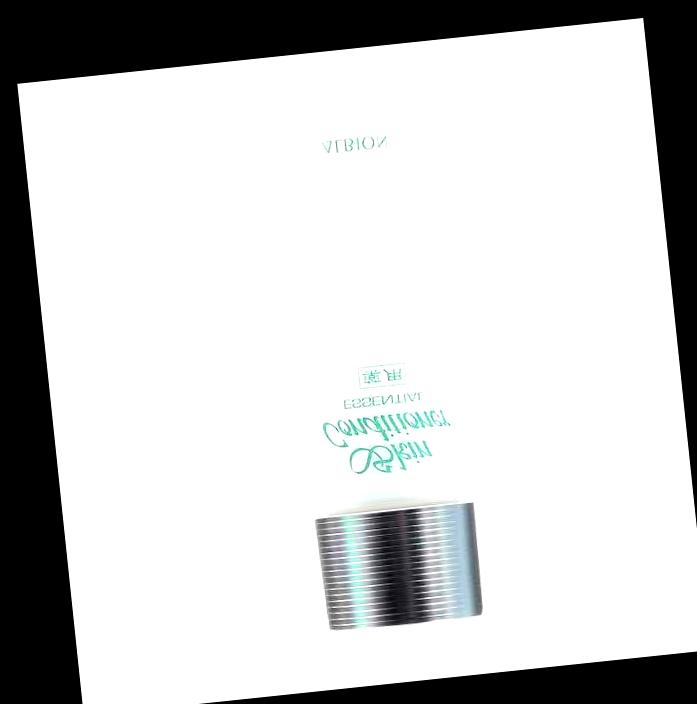cosmetic: (262, 86, 487, 636)
